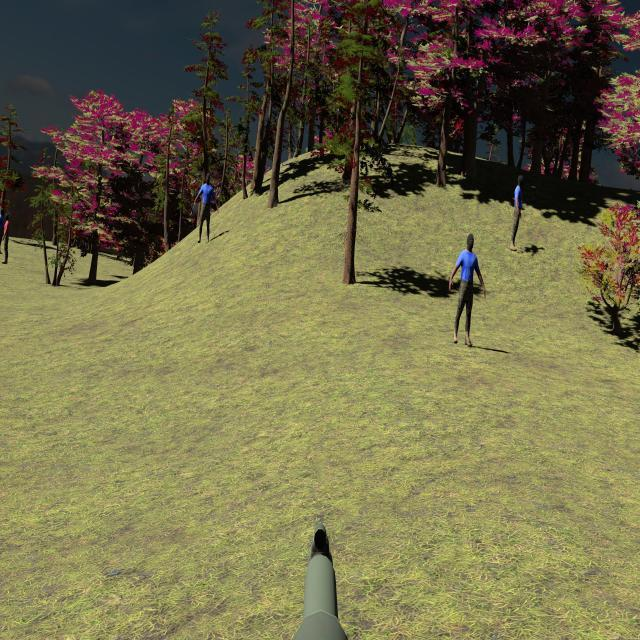Human: (448, 232, 486, 348), (193, 173, 219, 243), (510, 173, 523, 251), (0, 212, 9, 264)
